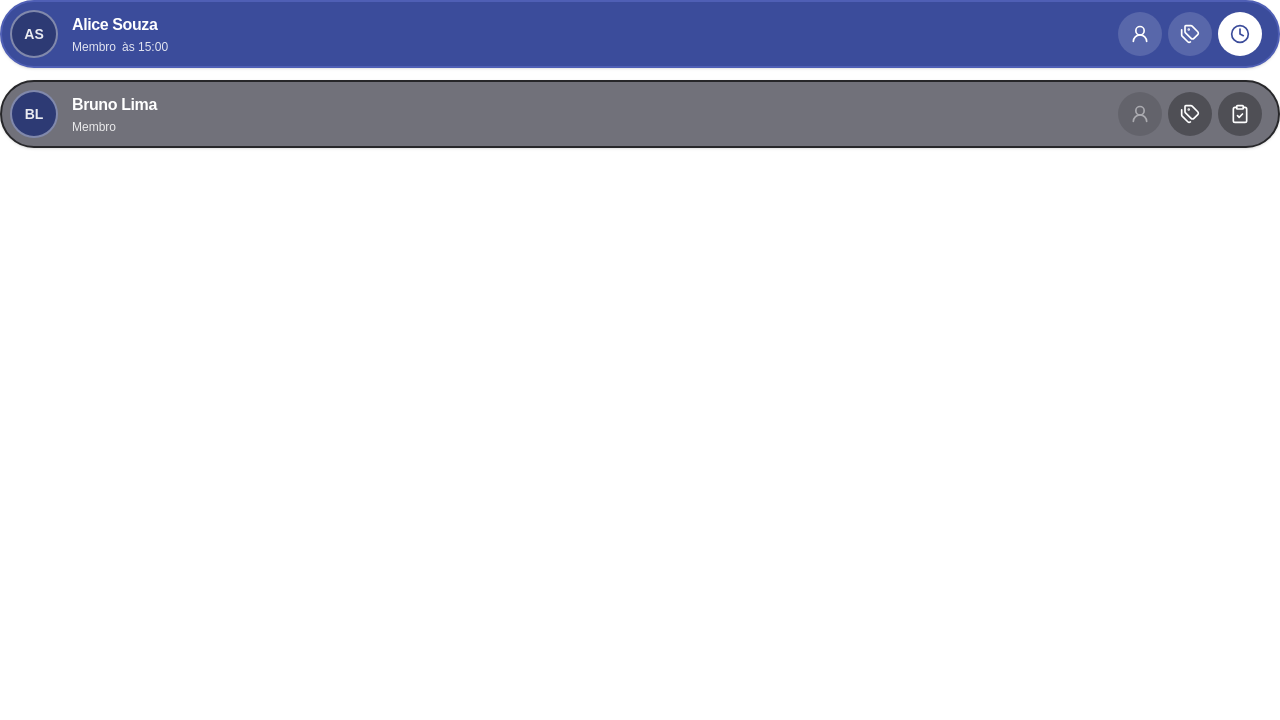
[US09] AttendanceList › Deve indicar apenas o status atual de cada aluno no botão de presença e no modal
The image size is (1280, 720).
Click the button named "Presença de Alice Souza: Atraso": (1240, 34) [1218,12,1262,56]
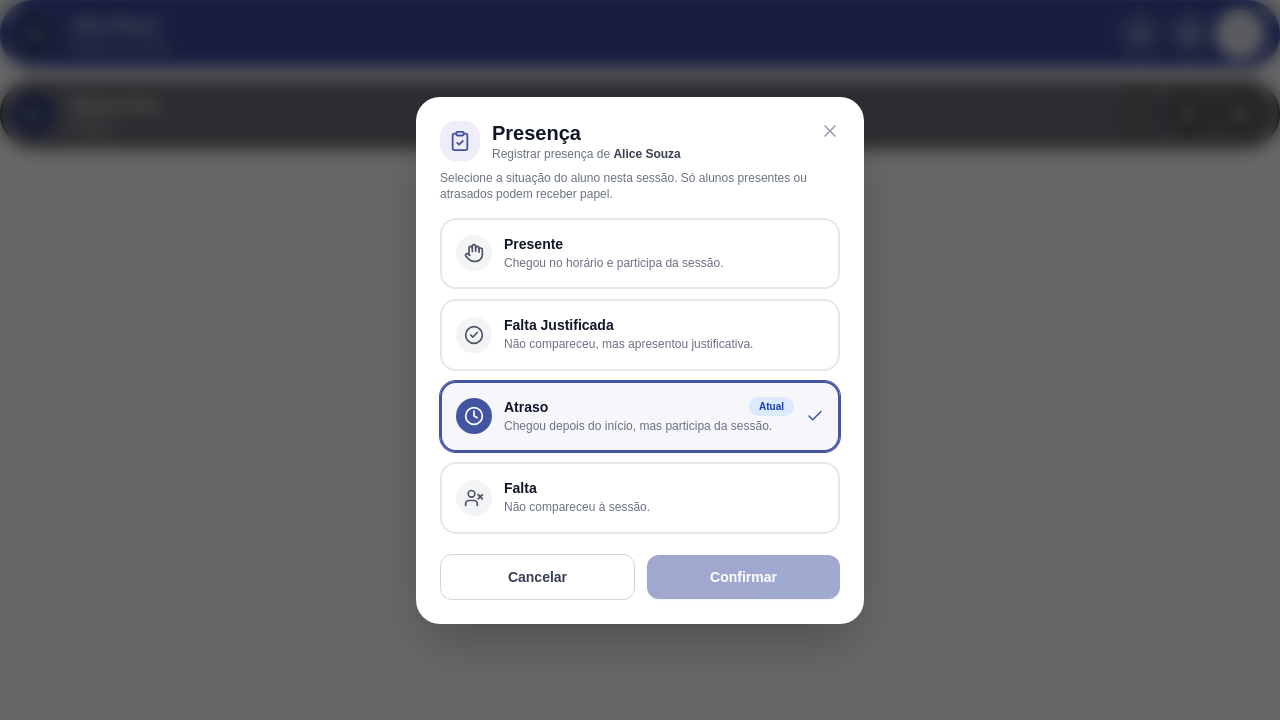
Expected: the button "Confirmar" is disabled, [647,554,840,598]
Click the button "Presente": (640, 253) [440,218,840,289]
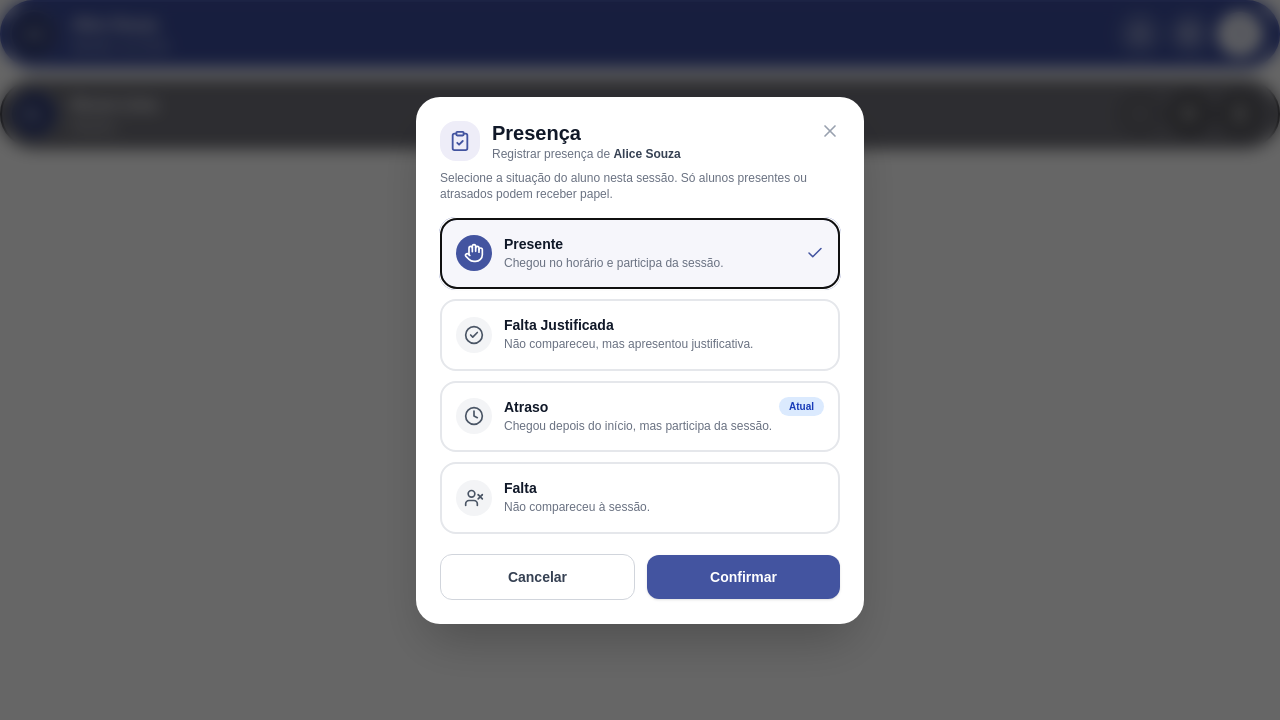
Expected: the button "Confirmar" is enabled, [647,554,840,598]
Click the button "Atraso": (640, 416) [440,380,840,452]
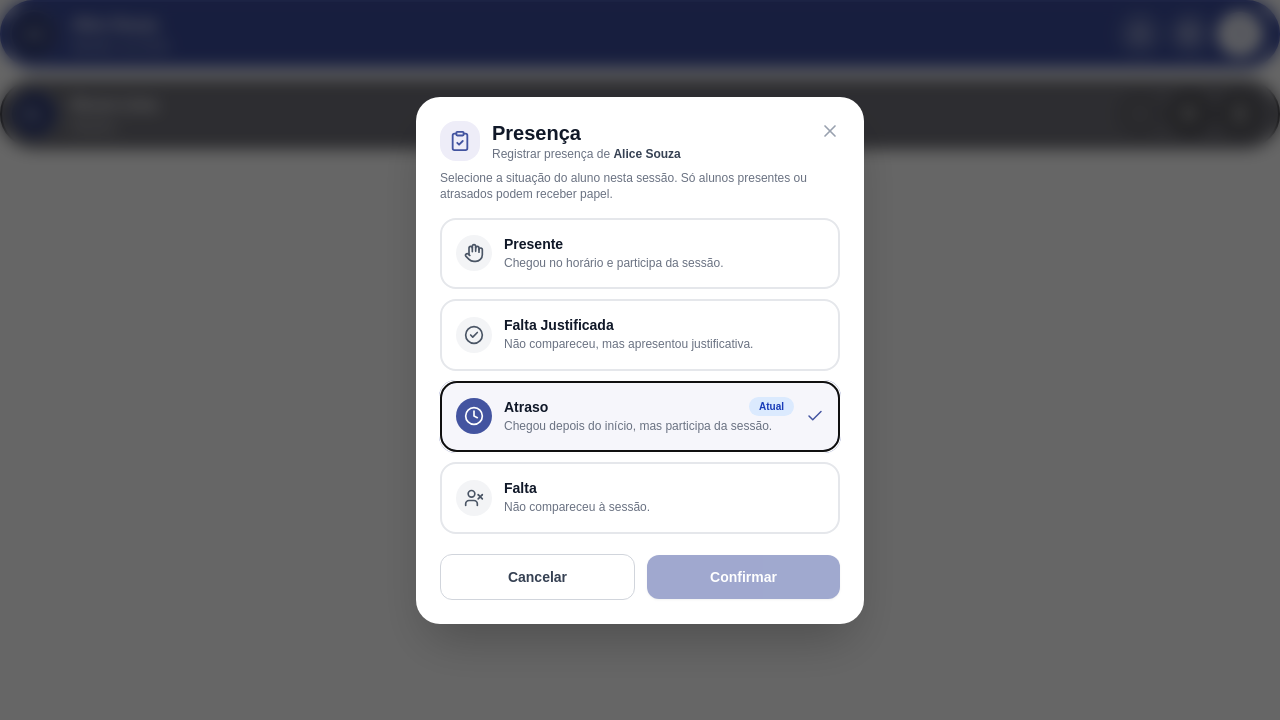
Expected: the button "Confirmar" is disabled, [647,554,840,598]
Click the button "Cancelar": (538, 576) [440,554,635,600]
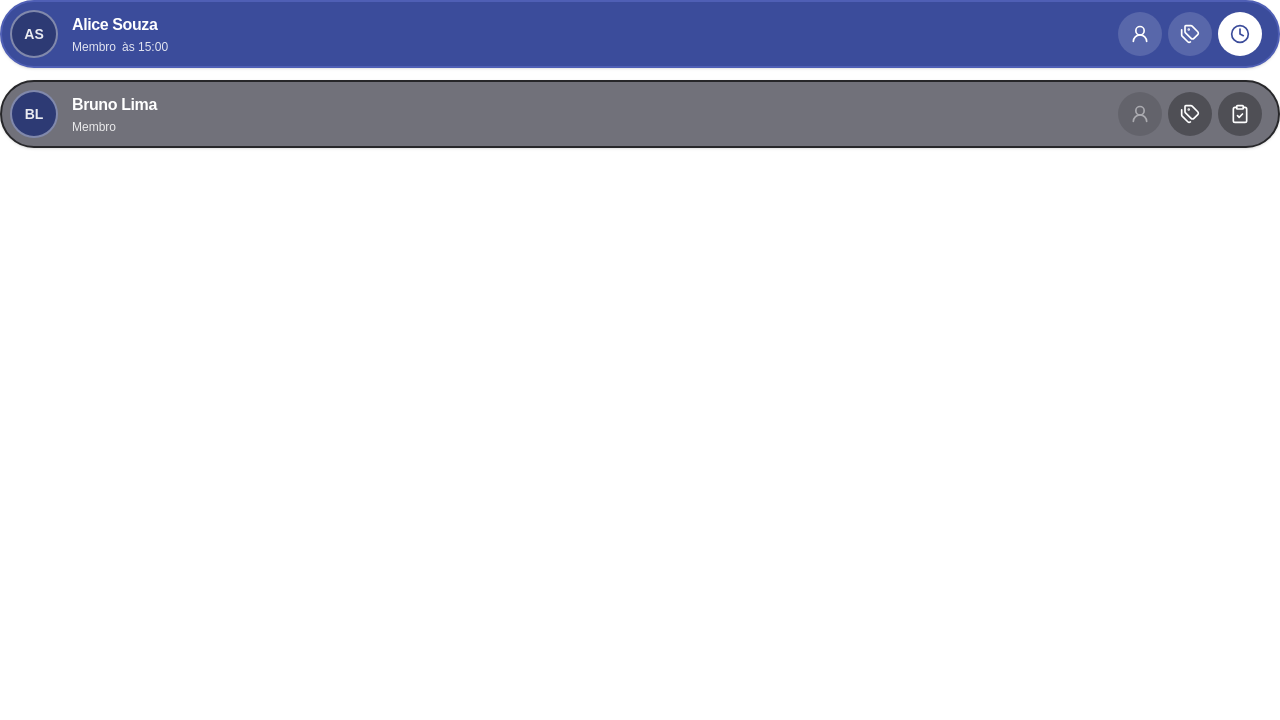
Expected: the dialog is gone
Click the button named "Presença de Bruno Lima: não registrada": (1240, 114) [1218,92,1262,136]
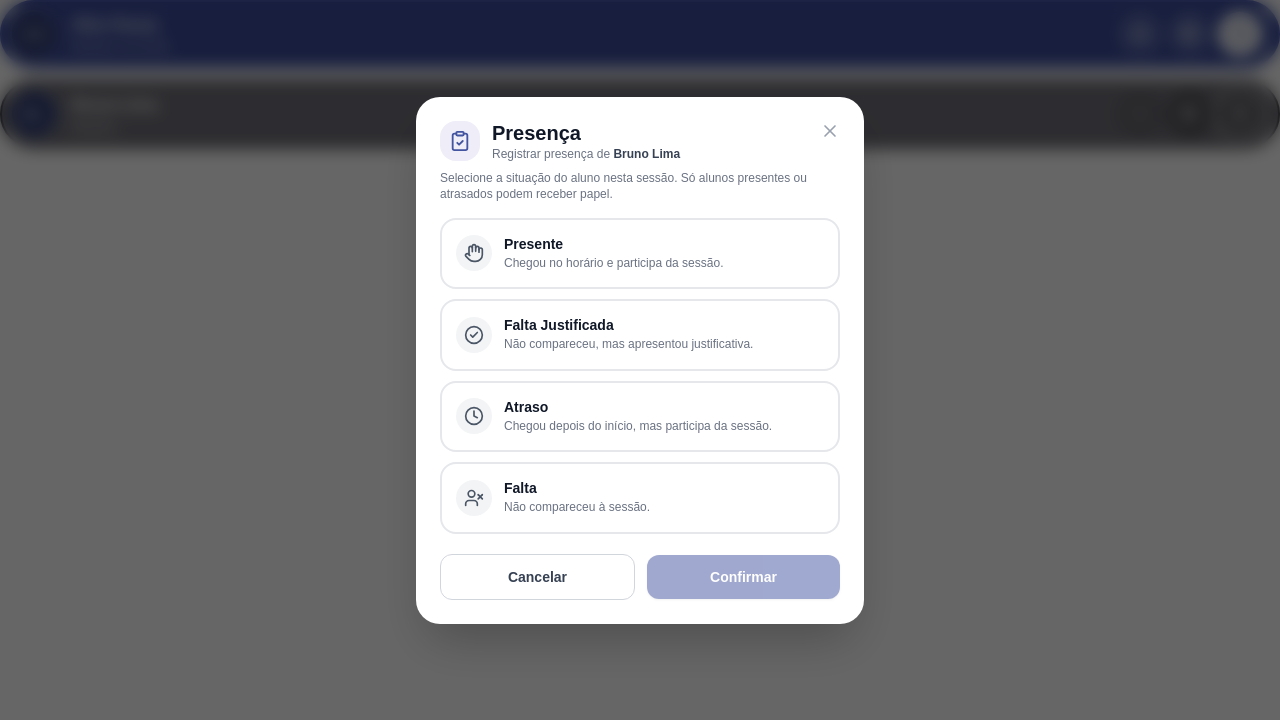
Expected: the button "Confirmar" is disabled, [647,554,840,598]
